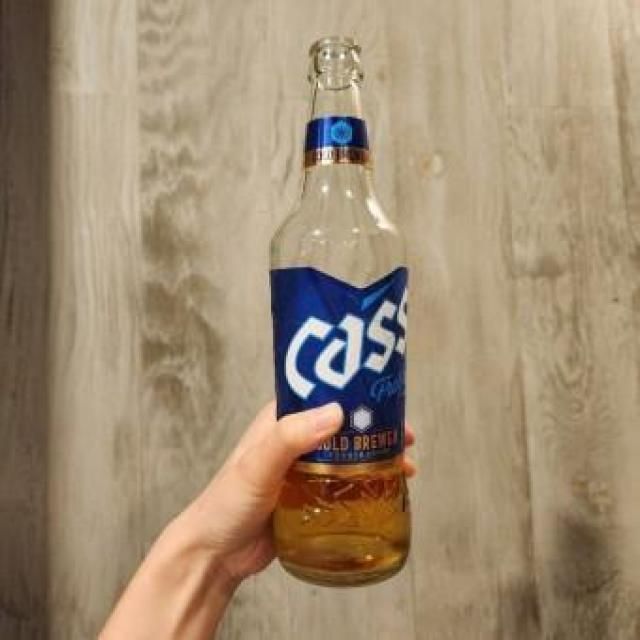beer-bottle: (258, 31, 420, 592)
